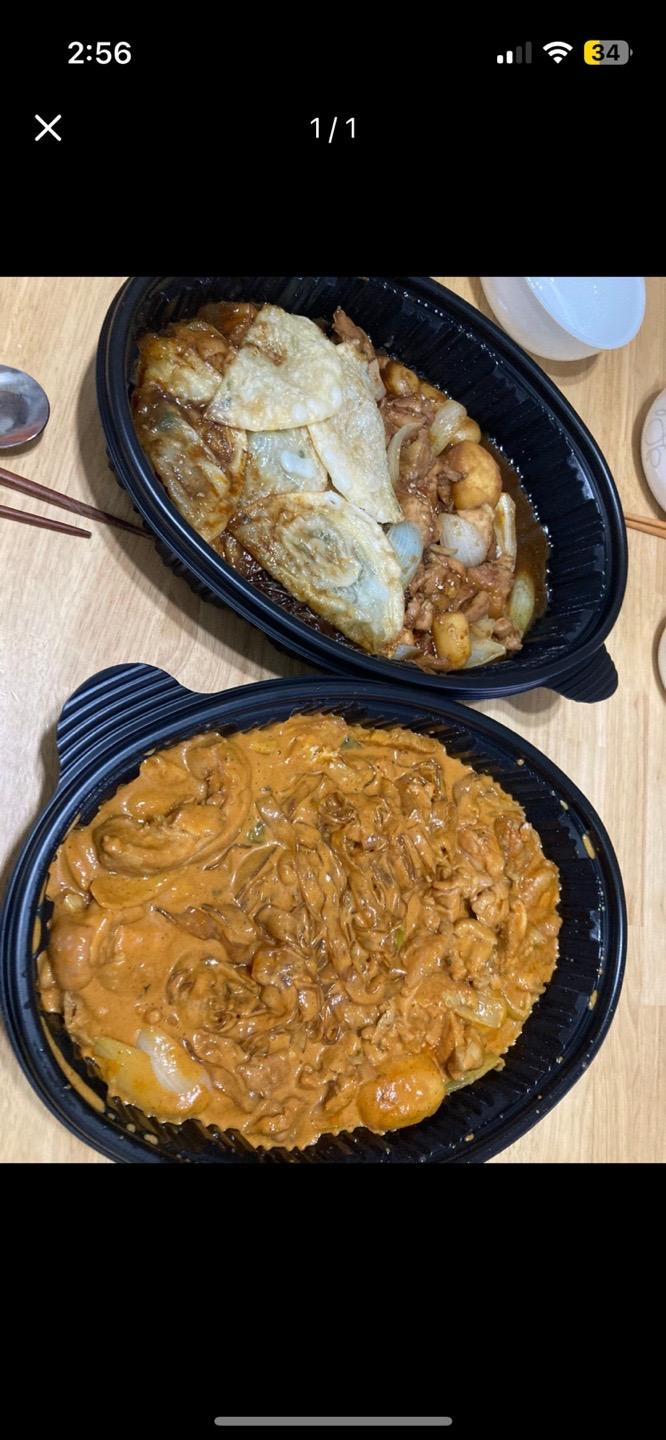Lunch Box: (0, 665, 625, 1162), (96, 276, 626, 702)
